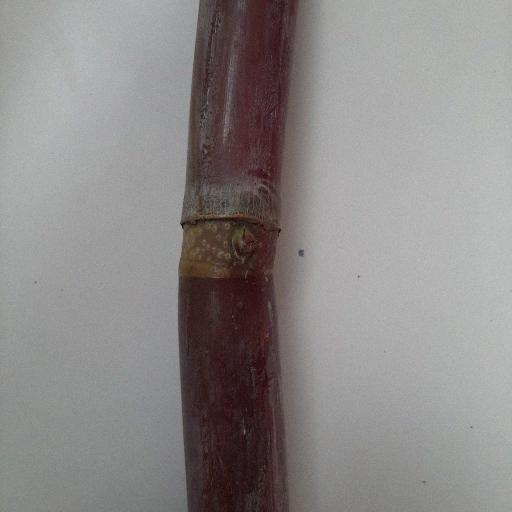Bud: (230, 225, 258, 263)
